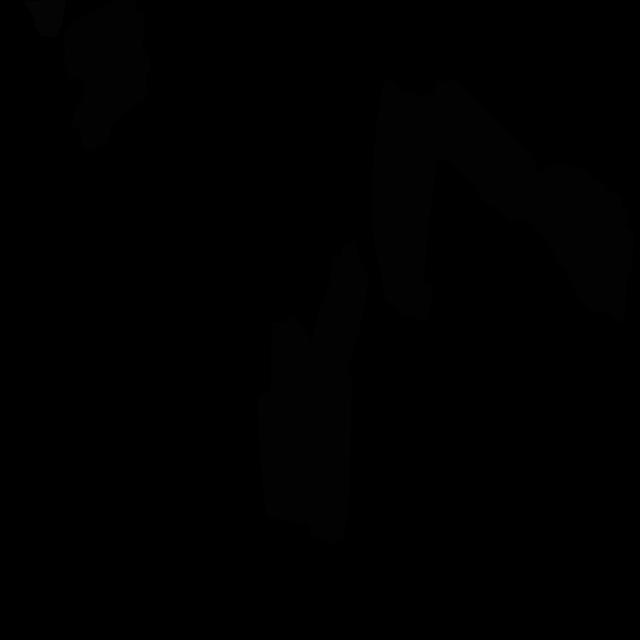cardboard: (410, 80, 634, 323), (257, 241, 369, 544), (372, 77, 438, 320), (64, 0, 151, 153)
soft_plastic: (24, 0, 66, 38)
